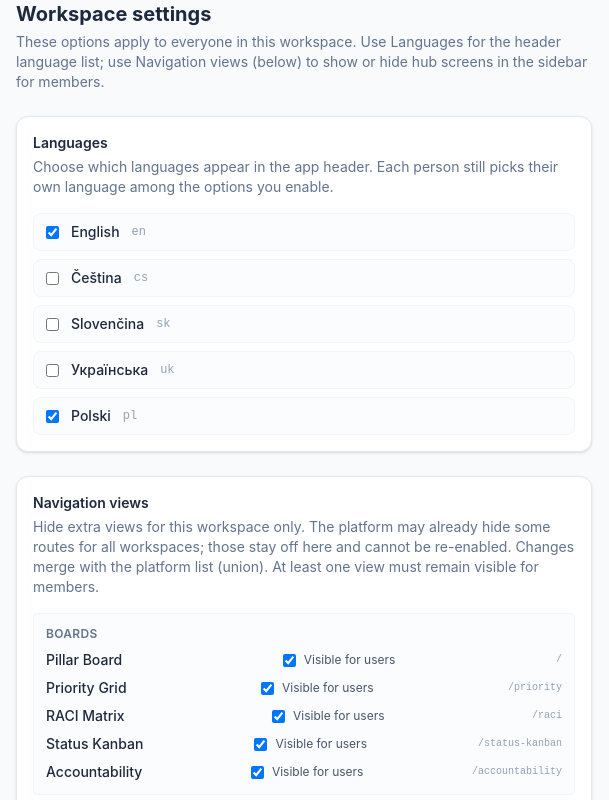
Test case: WorkspaceSettingsPage › loads checkboxes from tenant.enabledLocales and saves via API
Expected: the checkbox labelled "English en" is checked, left=46, top=226, right=59, bottom=238
Expected: the checkbox labelled "Polski pl" is checked, left=46, top=410, right=59, bottom=422
Click the checkbox labelled "Čeština cs" at {"x": 52, "y": 278}, box left=46, top=272, right=59, bottom=284
(page scrolled)
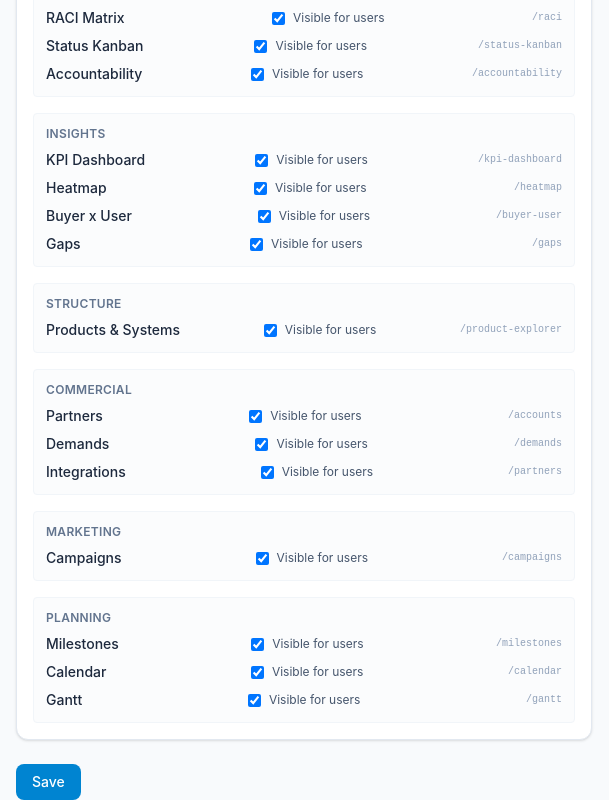
Click the button "Save" at {"x": 48, "y": 782}, box left=16, top=764, right=81, bottom=799
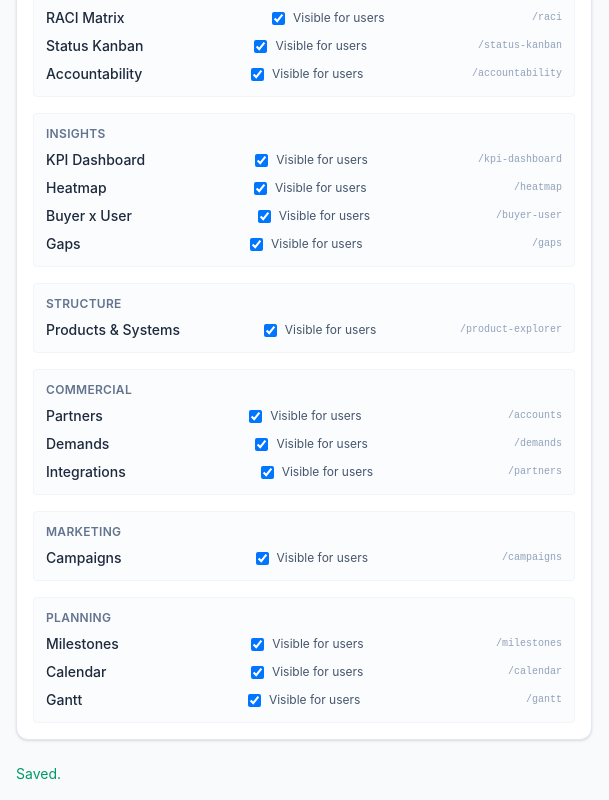
Expected: the text "Saved." is shown, left=16, top=765, right=61, bottom=782
